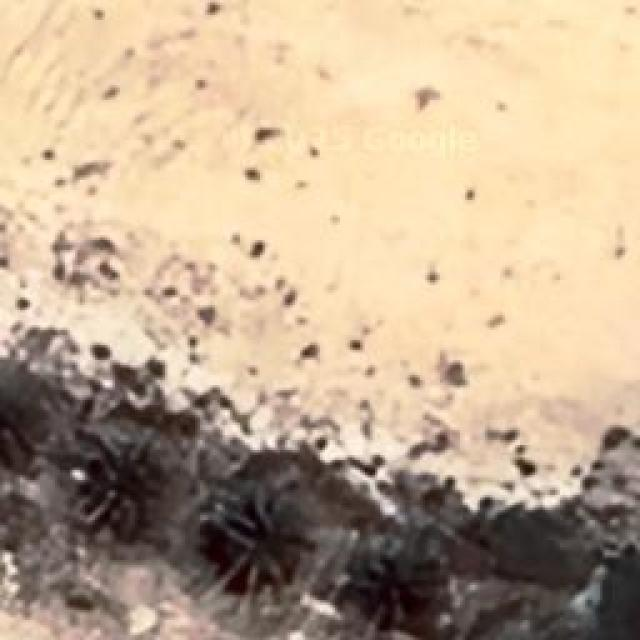PalmTree: (199, 482, 299, 592), (352, 540, 446, 630), (88, 437, 160, 545), (0, 365, 42, 470)
